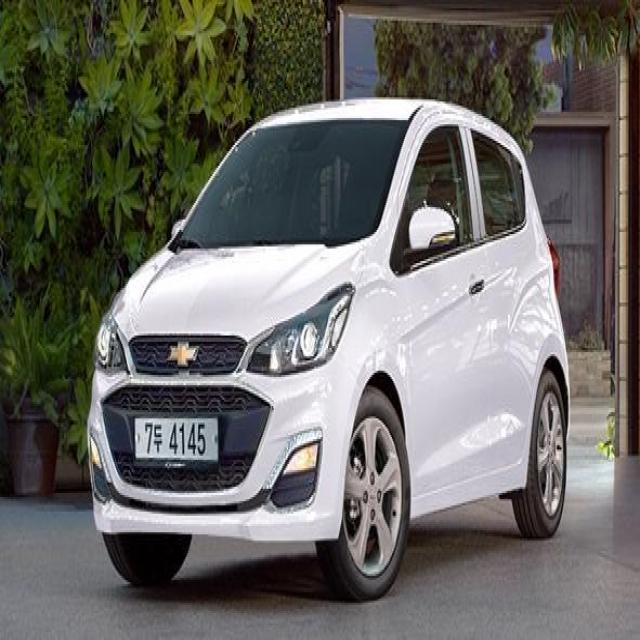car: (85, 86, 574, 607)
illegal_plate: (136, 411, 222, 472)
